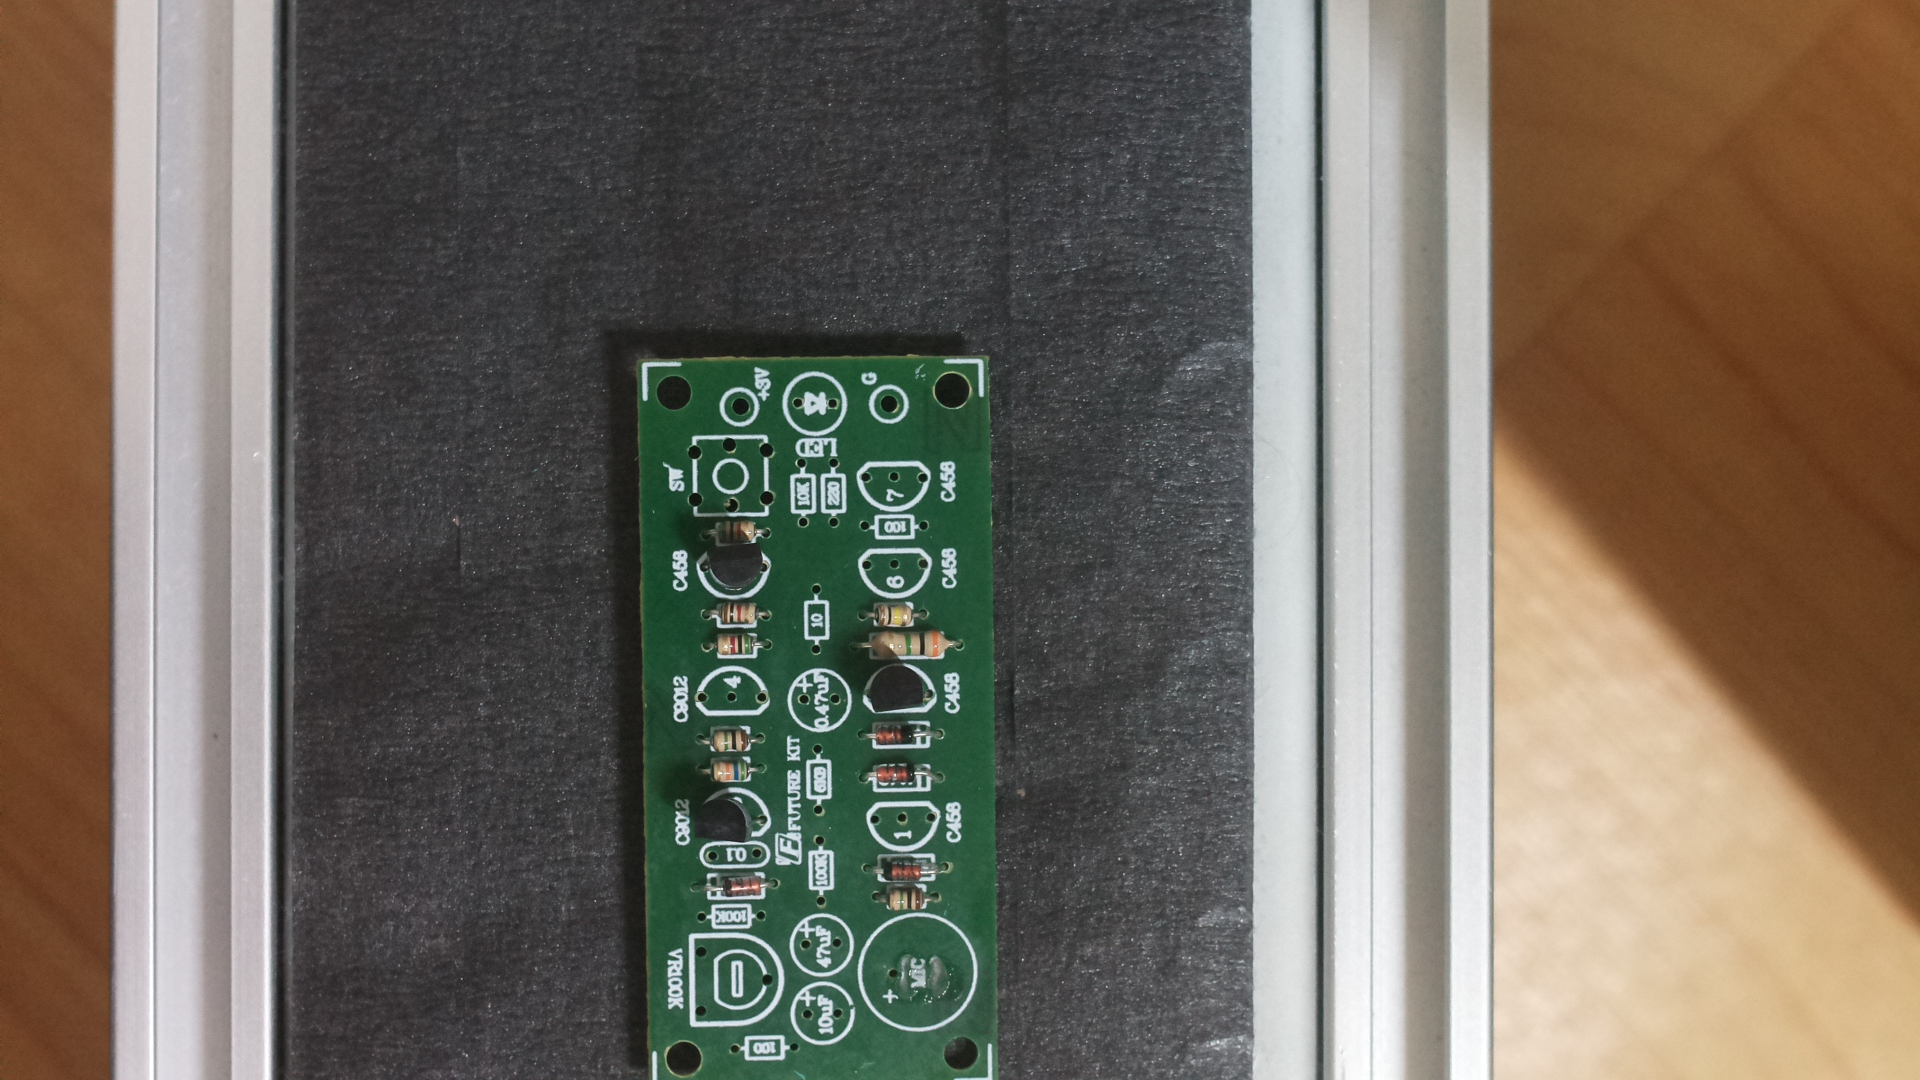A_Missing_part: (630, 345, 1014, 1080)
